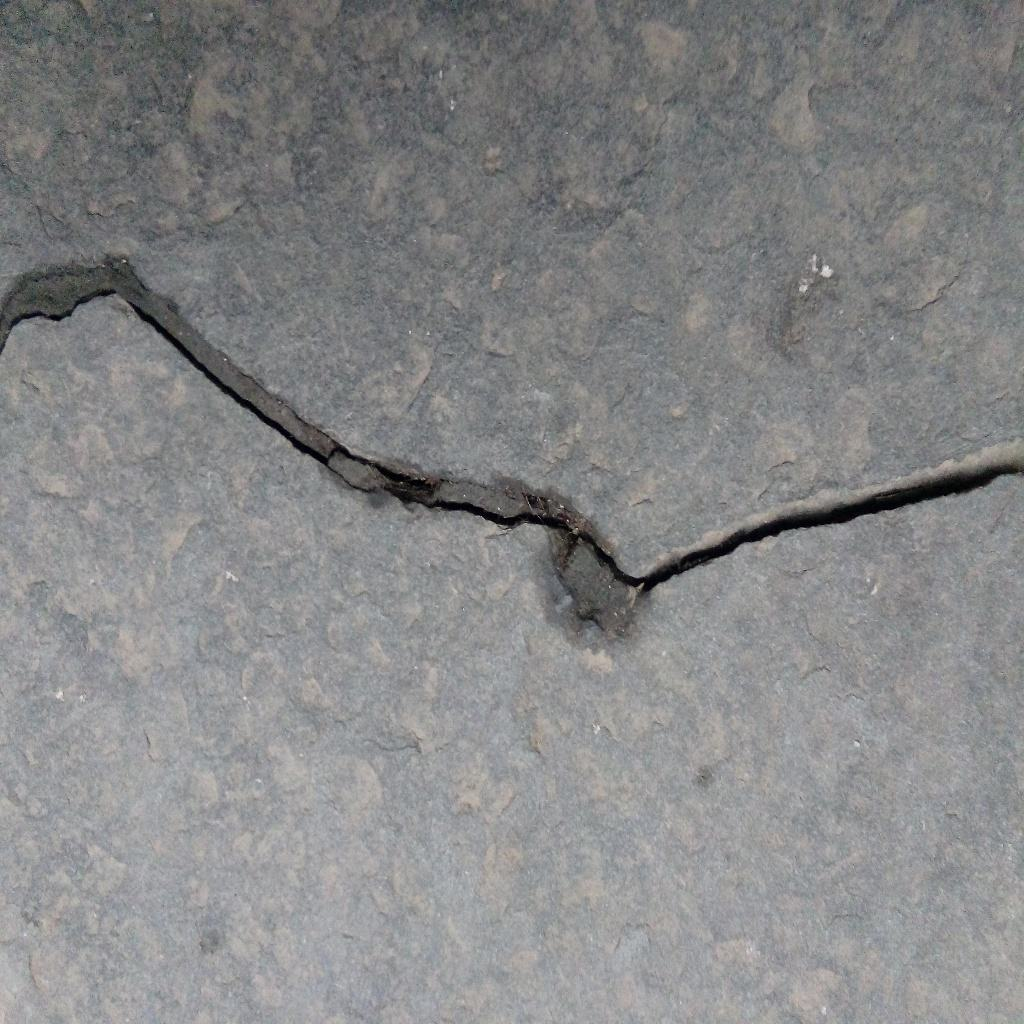Crack: (1, 252, 1024, 652)
